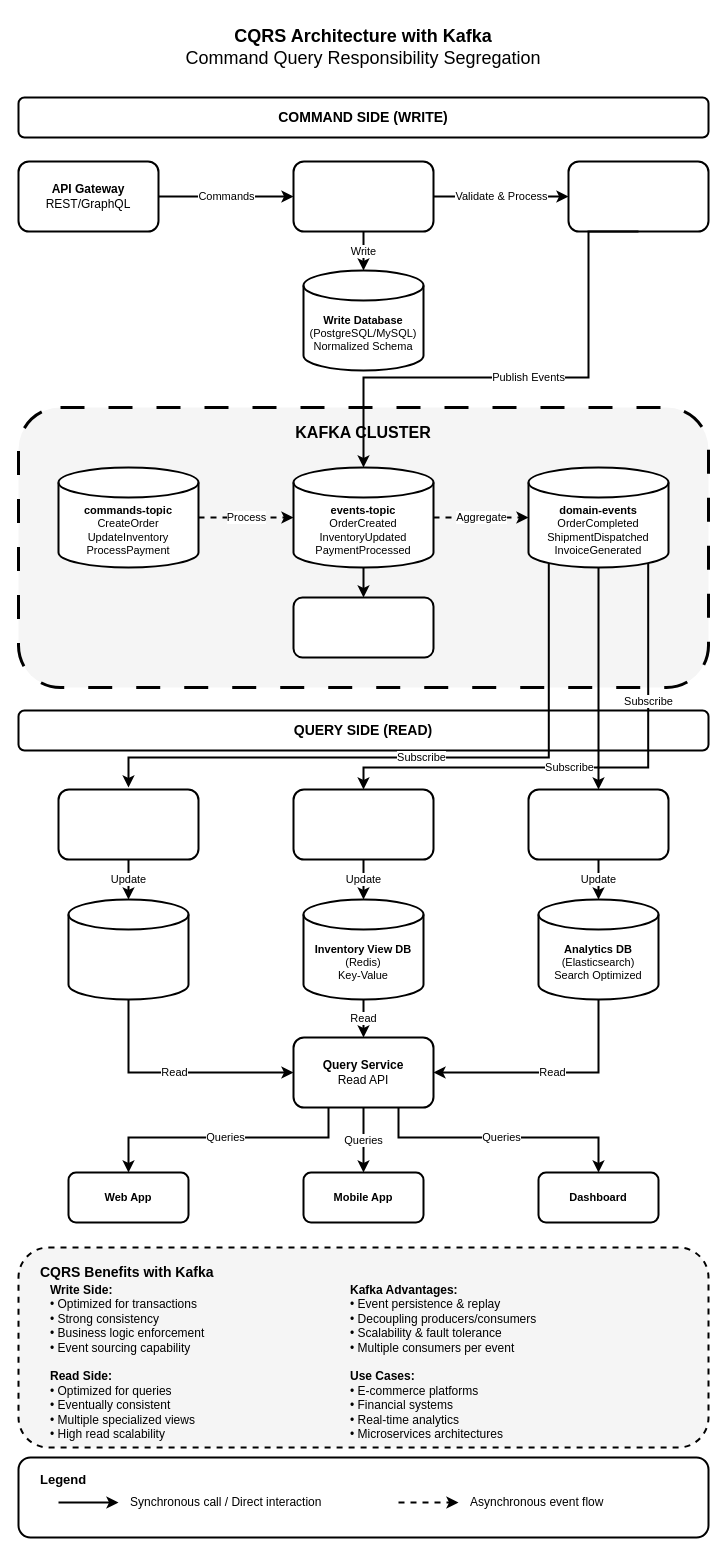
Some shapes in this 727 by 1555 pixel diagram are drawn without their labels. Each missing label, with the centre of its shape:
Command Service Business Logic: (x=363, y=196)
Event Producer Command Handler: (x=638, y=196)
Kafka Streams Event Processor: (x=363, y=627)
Orders View DB (MongoDB) Denormalized: (x=128, y=949)
Projection Consumer 1 Order View Builder: (x=128, y=824)
Projection Consumer 2 Inventory View Builder: (x=363, y=824)
Projection Consumer 3 Analytics View Builder: (x=598, y=824)
